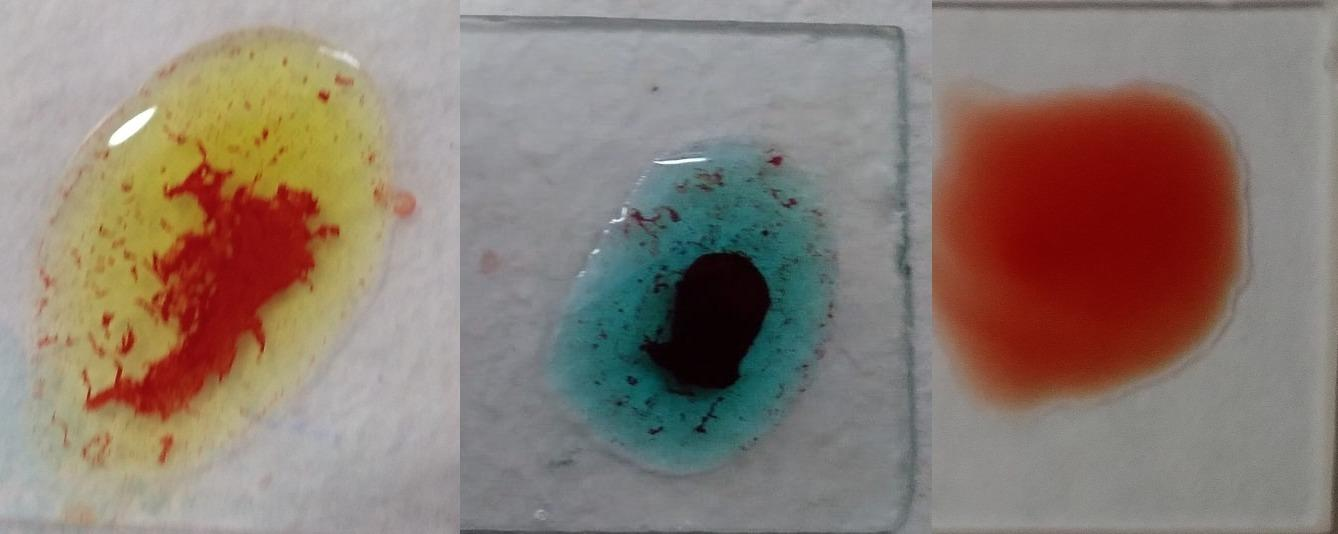A: (571, 139, 836, 479)
B: (27, 31, 382, 474)
